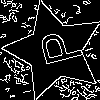P: (29, 26, 84, 70)
